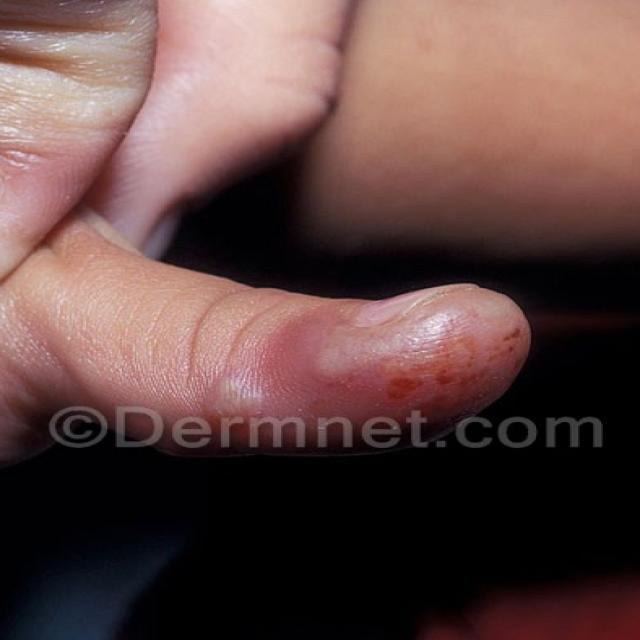Viral Infections: (275, 299, 486, 401), (190, 363, 265, 420)
